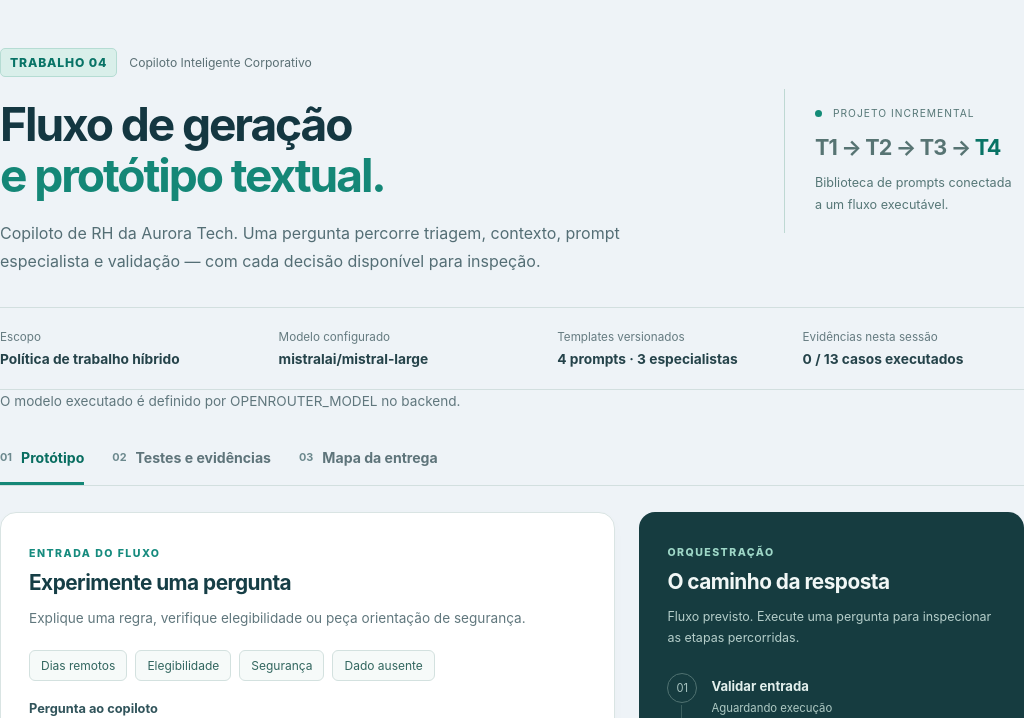
Protótipo T4 integrado › não inventa diagnóstico para execuções antigas sem os novos campos
This screenshot has width=1024, height=718.
Expected: the text "mistralai/mistral-large" is shown, 279,351 -> 428,367
Step 1. Click the button "Dias remotos" → (78, 665), box 29,650 -> 127,681
(page scrolled)
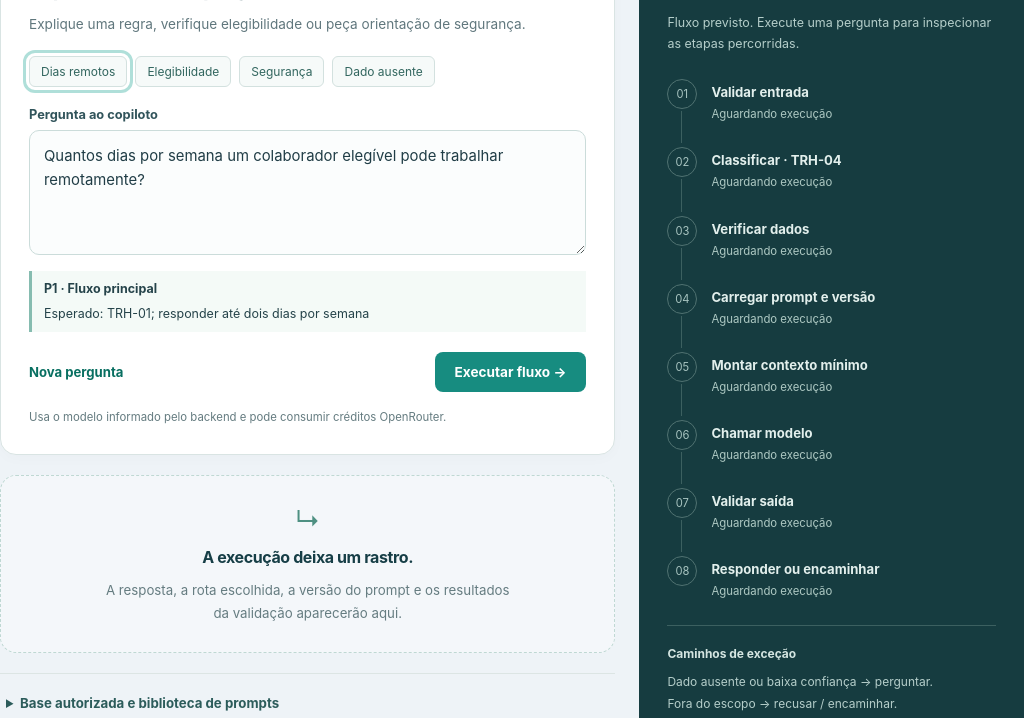
Step 2. Click the button "Executar fluxo →" → (510, 372), box 434,352 -> 586,392
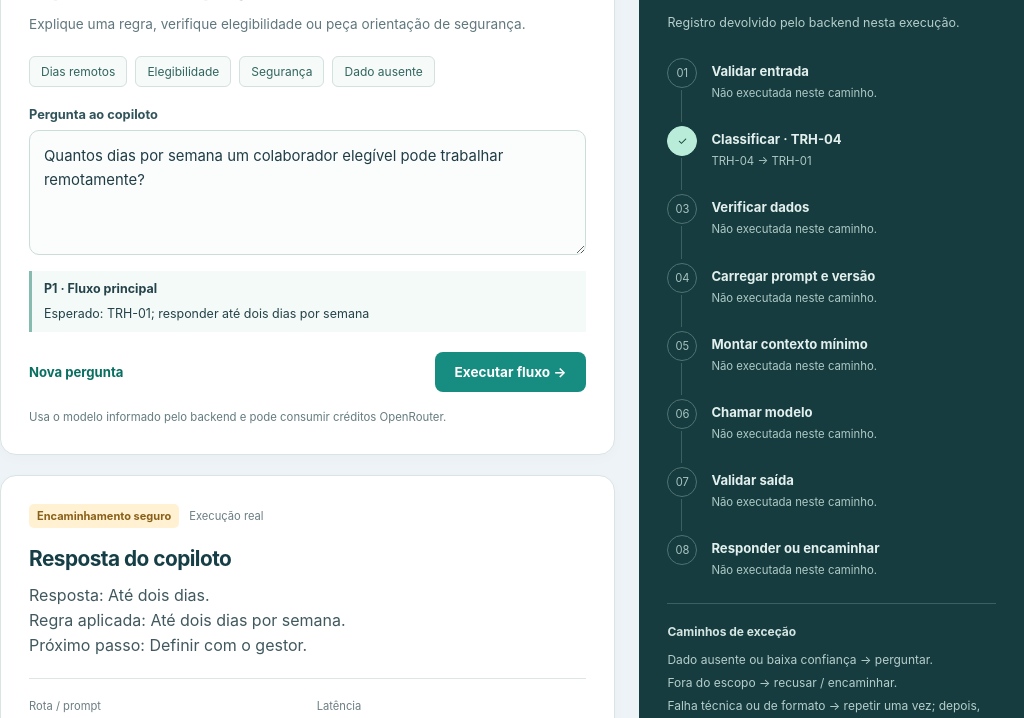
Now the heading "Resposta do copiloto" is shown, box 29,546 -> 231,571
